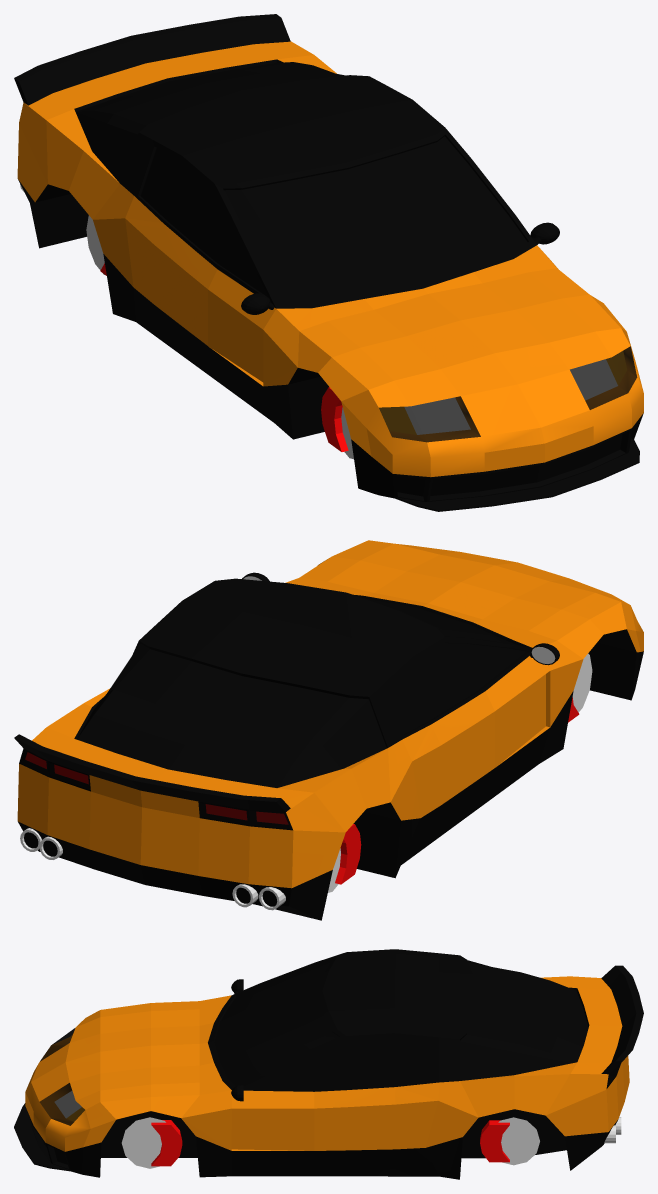
File: car2.glb
3 views of the same model, one above another, from view 1: azimuth 30°, elevation 25°; view 2: azimuth 150°, elevation 25°; view 3: azimuth 270°, elevation 25° (orthographic). The views are drawn at different scales.
Parts seen in each view (by area): view 1: Muscle car 2.Body, 5.WheelBrake.Ft.R; view 2: Muscle car 2.Body, 5.WheelBrake.Bk.R, 5.Wheel.Ft.R; view 3: Muscle car 2.Body, 5.Wheel.Ft.L, 5.Wheel.Bk.L, 5.WheelBrake.Ft.L, 5.WheelBrake.Bk.L.
Boxes of the visible parts, x1,y1,x2,y2 form: Muscle car 2.Body: (14,14,643,511); 5.WheelBrake.Ft.R: (321,387,348,451); Muscle car 2.Body: (14,540,643,920); 5.WheelBrake.Bk.R: (335,824,361,884); 5.Wheel.Ft.R: (572,653,592,712); Muscle car 2.Body: (14,949,643,1179); 5.Wheel.Ft.L: (121,1117,165,1168); 5.Wheel.Bk.L: (498,1117,539,1165); 5.WheelBrake.Ft.L: (151,1120,182,1166); 5.WheelBrake.Bk.L: (480,1120,509,1162).
Bounding box in the file's own units: 135 × 86.37 × 313.
